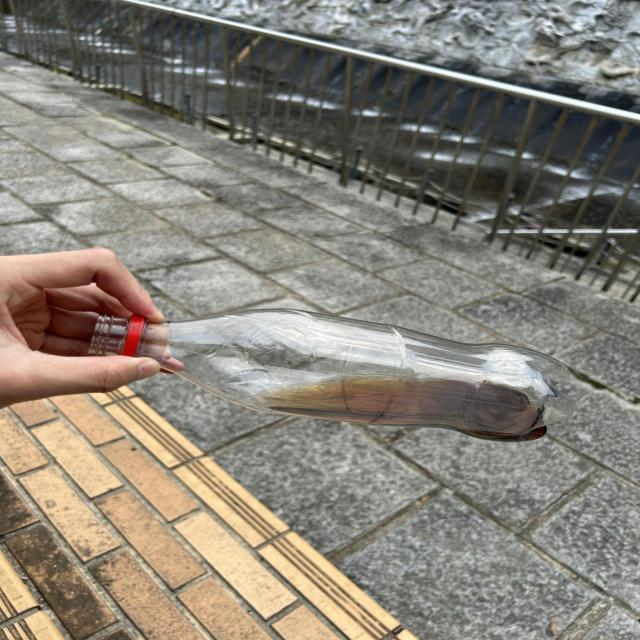low: (90, 309, 572, 442)
